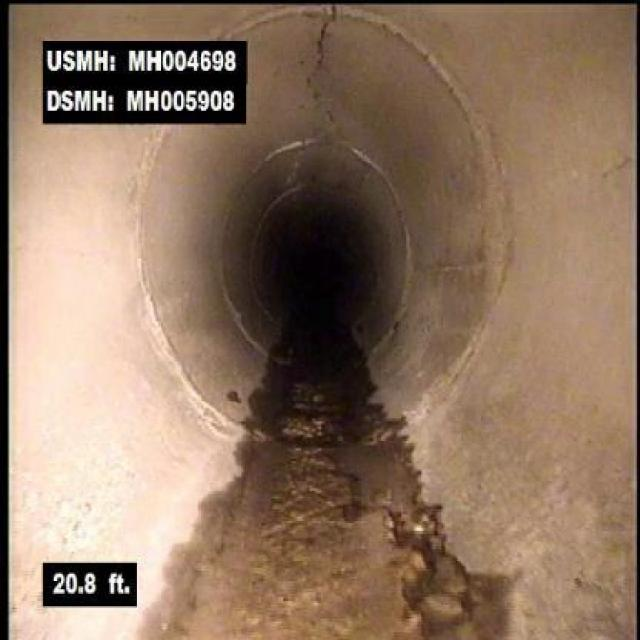Buckling: (372, 498, 438, 638)
Crack: (308, 6, 340, 80)
